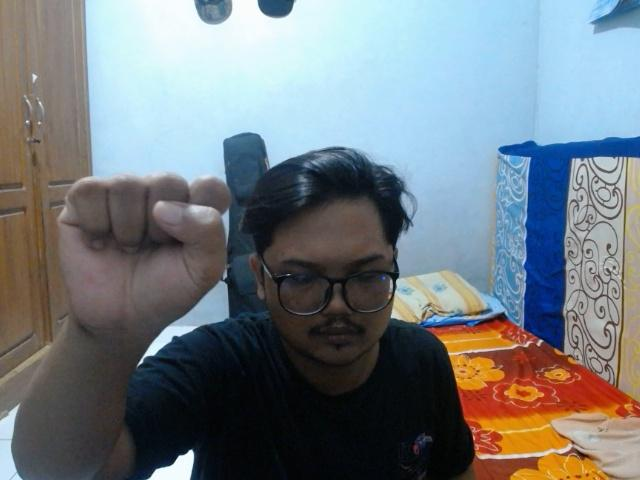Grab: (50, 172, 233, 340)
